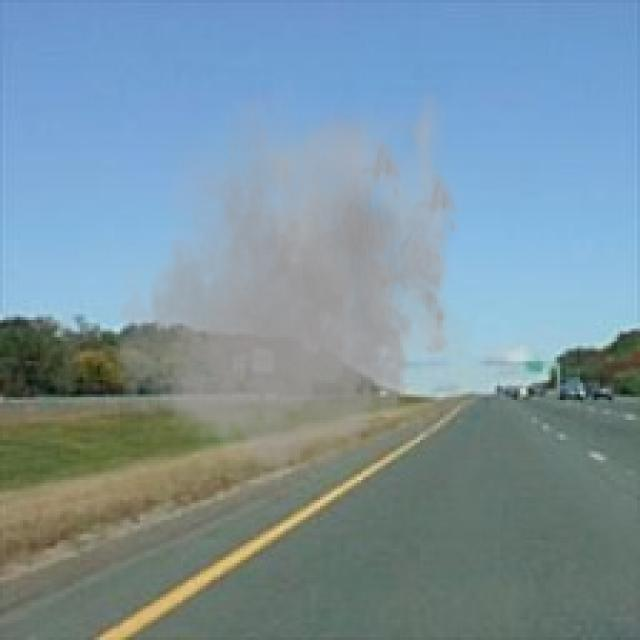smoke: (103, 74, 477, 497)
